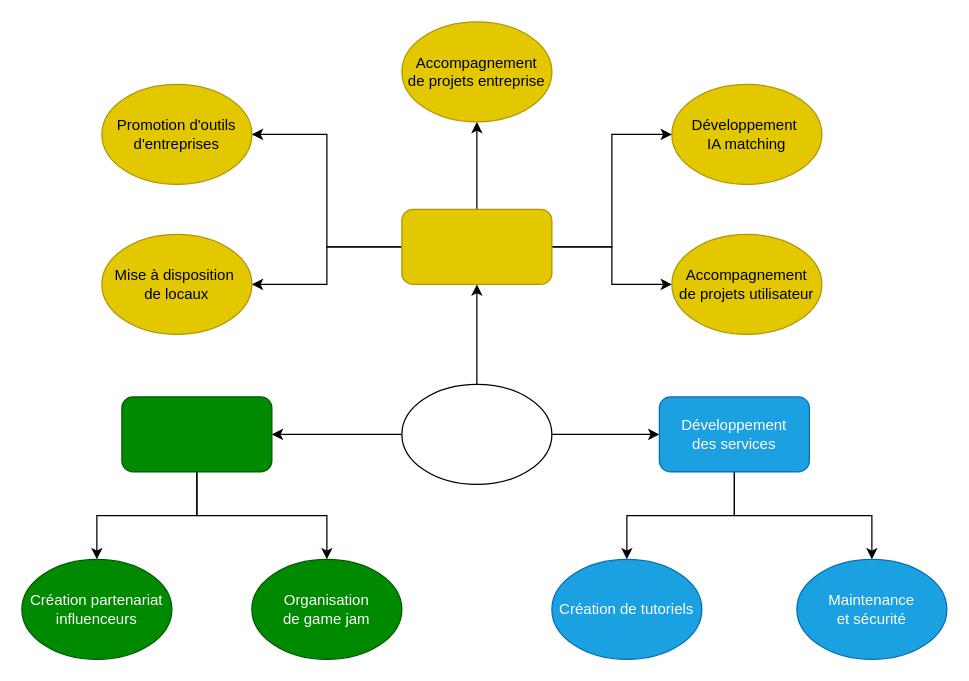
Image size: 969x681. Some labels were removed from this diagram. The centre of each missing label's shape, as x and y in pixels:
Application: the point at 476,433
Notoriété: the point at 196,434
Revenus: the point at 476,246
